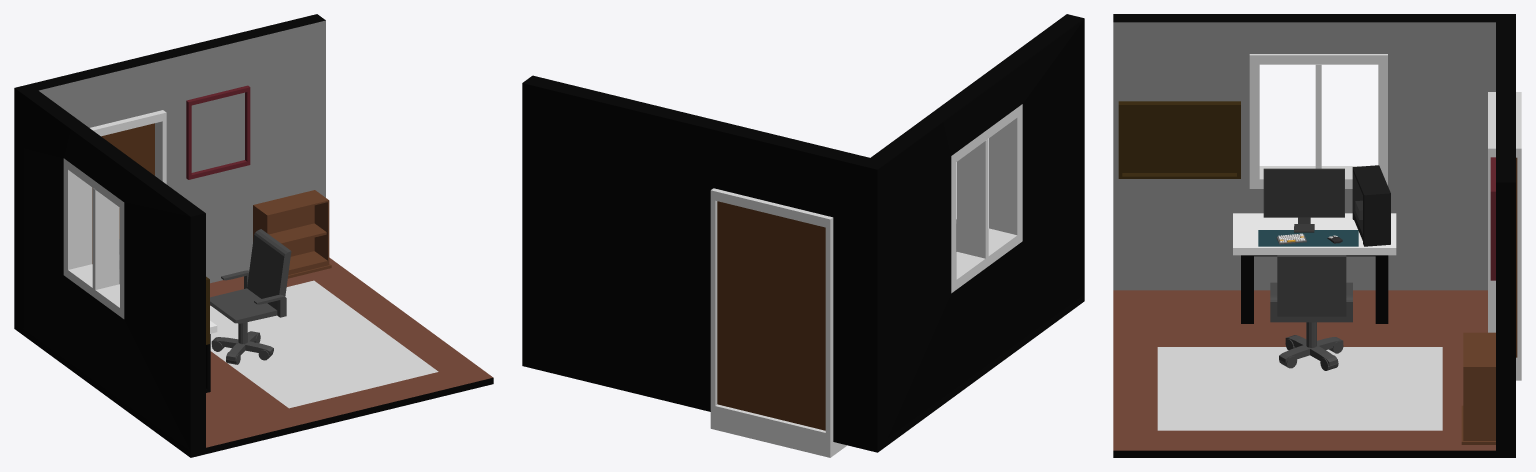
The model's file is portfolio0-02.glb.
The picture shows the model from 3 angles, left to right: view 1: azimuth 30°, elevation 25°; view 2: azimuth 150°, elevation 25°; view 3: azimuth 270°, elevation 25°; orthographic projection. The views are drawn at different scales.
Parts seen in each view (by area): view 1: Cube.012, Plane.002, Cylinder, Cube.010, Cube, Cube.013; view 2: Cube.012, Cube.013; view 3: Cube.012, Plane.002, Cube.011, Cylinder, Cube.001, Cube.002, Cube.010, Cube.003, Plane, Cube.
Part boxes in pixels (x1,y1,x2,y2): Cube.012: (14,14,493,457); Plane.002: (210,280,438,408); Cylinder: (210,229,291,364); Cube.010: (253,190,331,278); Cube: (186,85,250,179); Cube.013: (92,123,154,263); Cube.012: (522,14,1084,457); Cube.013: (717,201,825,430); Cube.012: (1113,14,1521,457); Plane.002: (1157,347,1442,430); Cube.011: (1118,101,1240,178); Cylinder: (1270,255,1352,370); Cube.001: (1233,213,1396,323); Cube.002: (1263,168,1344,232); Cube.010: (1461,332,1495,444); Cube.003: (1352,165,1390,246); Plane: (1258,230,1358,246); Cube: (1490,157,1495,280).
Size of the model in its own units: 10 by 7.81 by 10.
